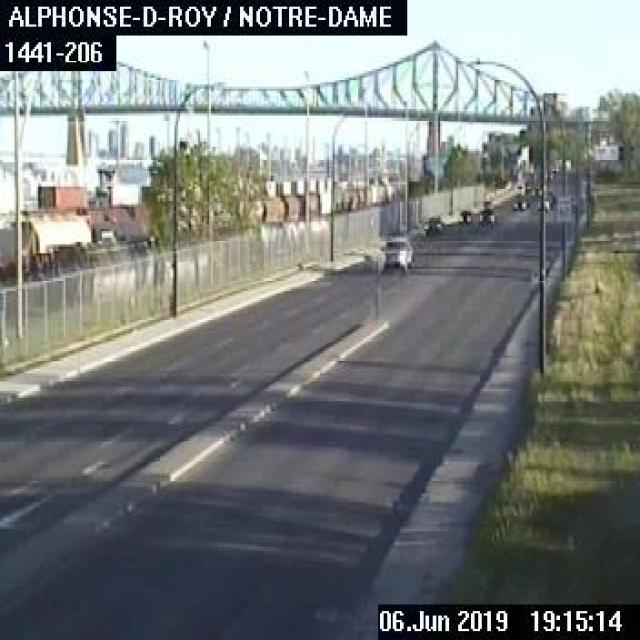vehicle: (381, 233, 413, 270), (422, 213, 445, 236), (534, 187, 554, 211), (476, 205, 494, 229), (509, 192, 527, 208), (456, 208, 471, 225)
